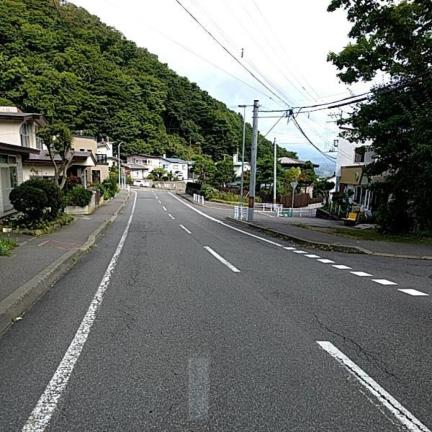Road: (0, 191, 431, 431)
